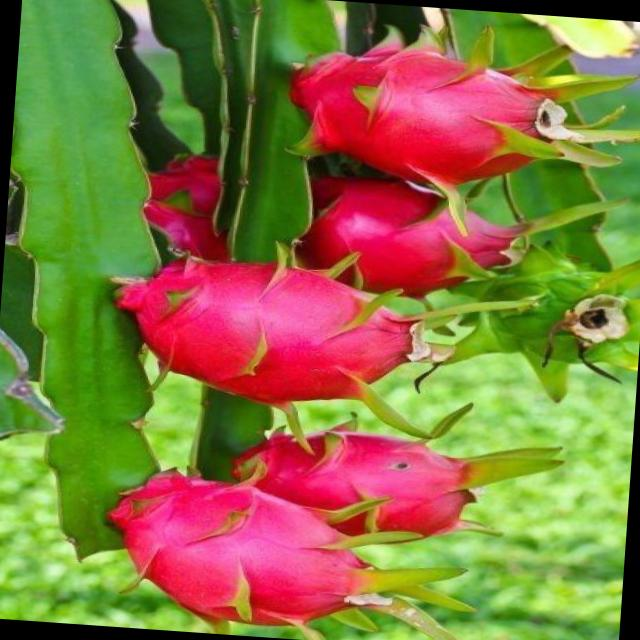Thanh Long: (110, 253, 484, 436), (126, 451, 428, 640), (288, 24, 584, 206), (206, 428, 538, 548), (296, 170, 526, 302), (128, 146, 256, 256)
